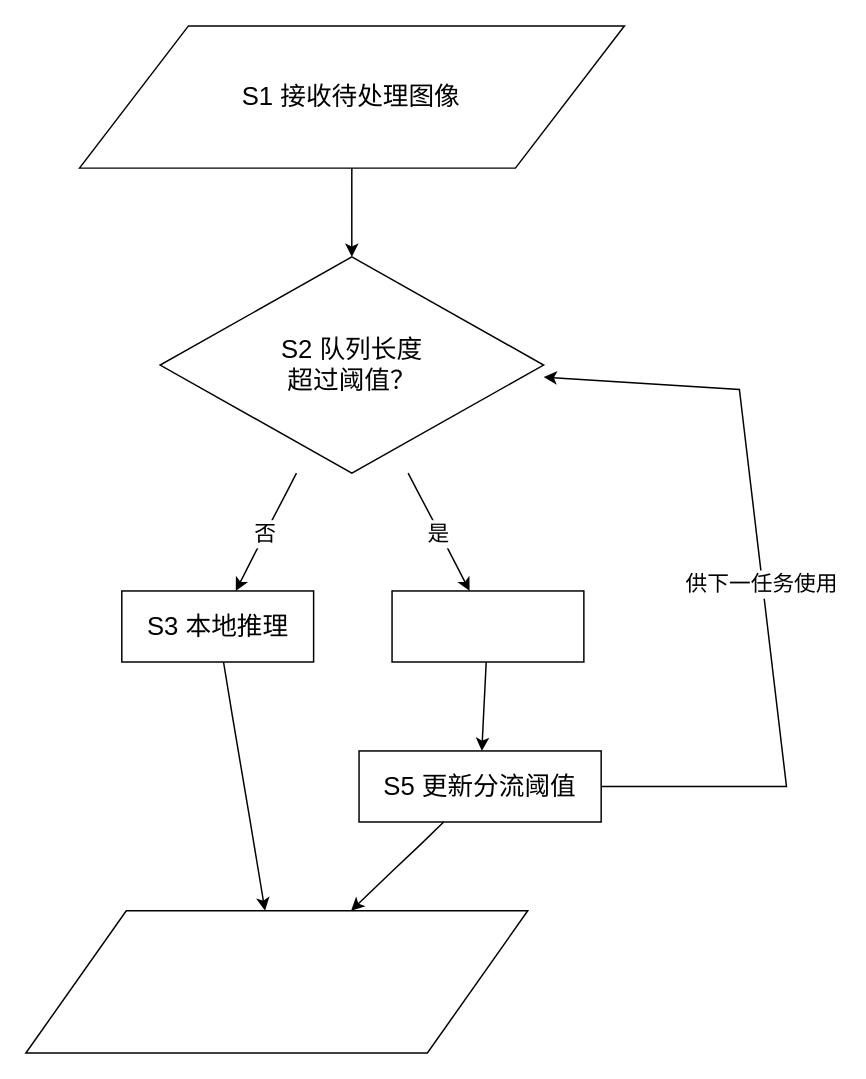
Image size: 866x1079. Some labels were removed from this diagram. Each missing label, with the centre of its shape:
"S4 云端复核" goes at (487,625).
"S6 输出检测结果" goes at (276,981).
